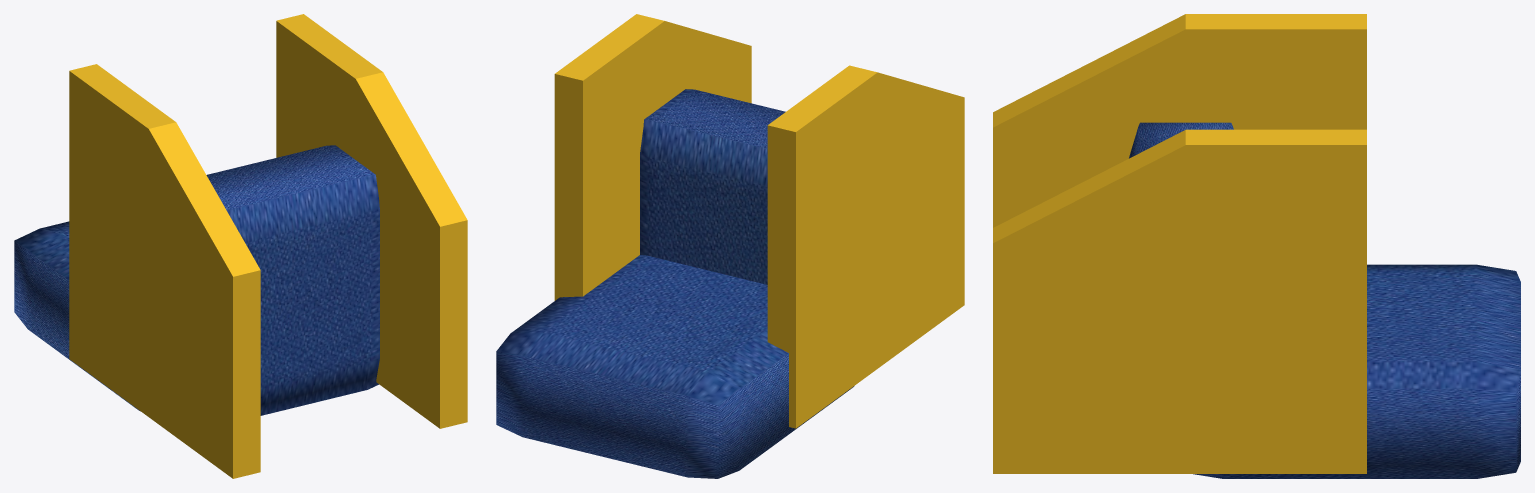
Rendered from butaka.obj.
3 renders of one model, left to right at view 1: azimuth 30°, elevation 25°; view 2: azimuth 150°, elevation 25°; view 3: azimuth 270°, elevation 25°, orthographic. The views are drawn at different scales.
Visible parts, largest first — view 1: Plano.001; view 2: Plano.001; view 3: Plano.001.
Part boxes in pixels (left/top/right/bottom): Plano.001: left=14, top=14, right=467, bottom=478; Plano.001: left=496, top=14, right=964, bottom=478; Plano.001: left=993, top=14, right=1520, bottom=478.
Bounding box in the file's own units: 1.28 × 1.58 × 2.18.
